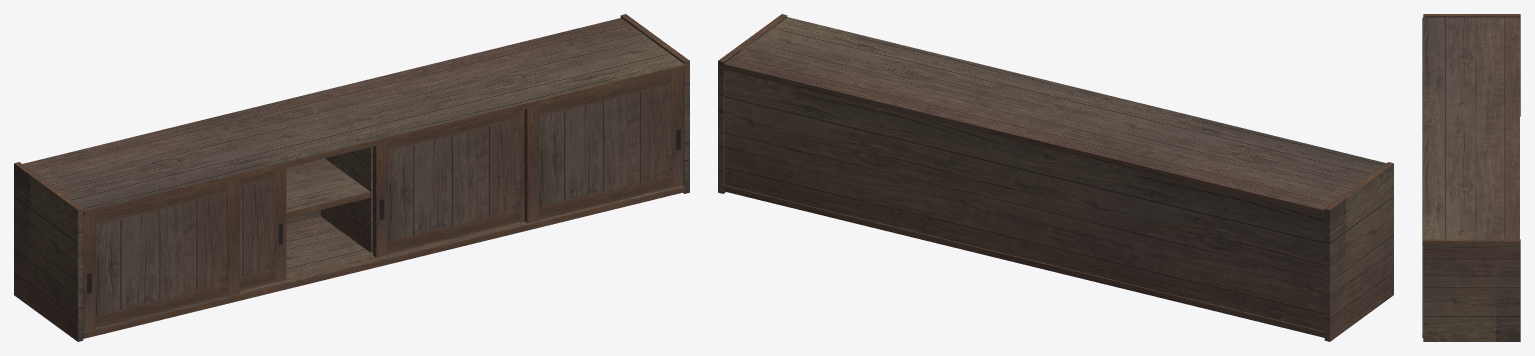
The model's file is jov_shelf04b.fbx.
The picture shows the model from 3 angles, left to right: view 1: azimuth 30°, elevation 25°; view 2: azimuth 150°, elevation 25°; view 3: azimuth 270°, elevation 25°; orthographic projection. The views are drawn at different scales.
Visible parts, largest first — view 1: jov_shelf04b; view 2: jov_shelf04b; view 3: jov_shelf04b.
Part boxes in pixels (x1,y1,x2,y2): jov_shelf04b: (14,14,689,341); jov_shelf04b: (718,14,1393,341); jov_shelf04b: (1422,14,1520,341).
Size of the model in its own units: 279 by 57.55 by 50.97.
